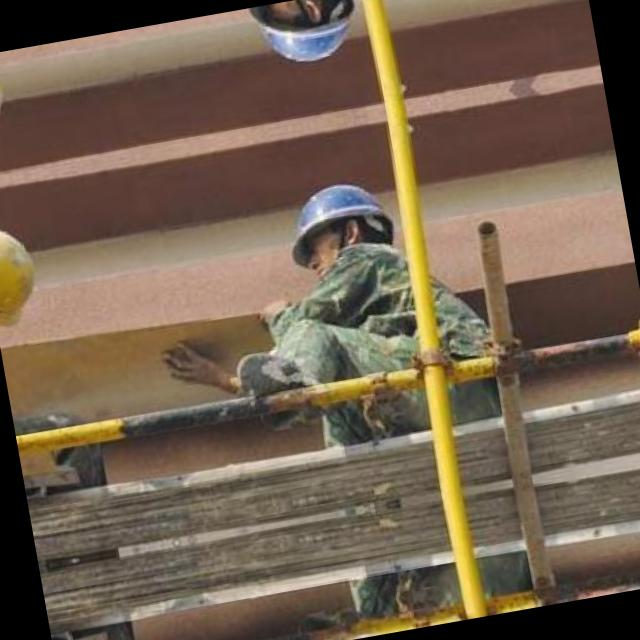helmet: (268, 162, 408, 294), (237, 0, 372, 82)
